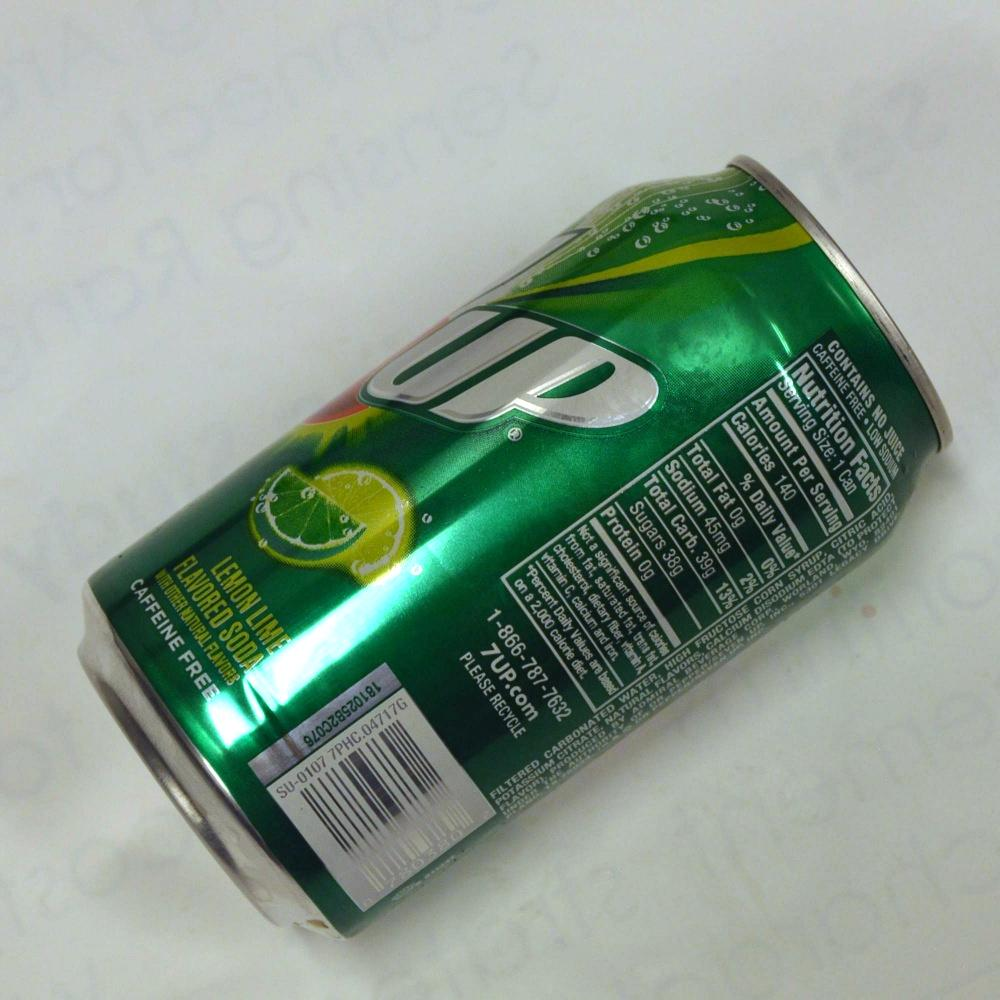Metal: (55, 140, 925, 880)
